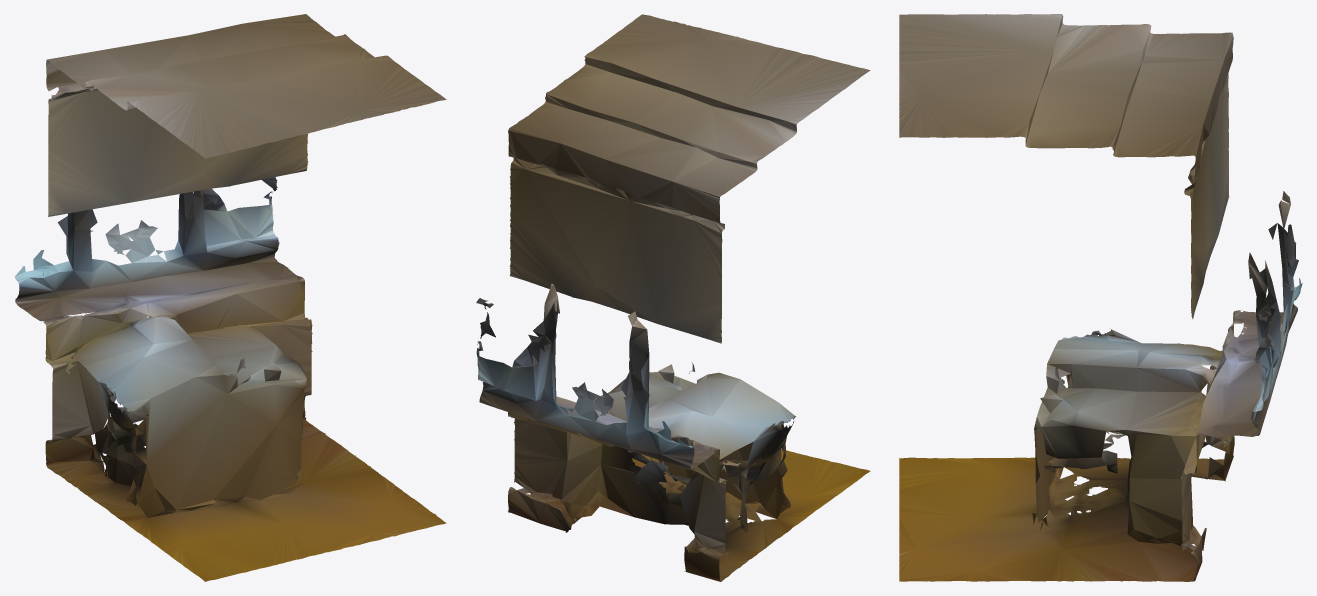
The model's file is coarse.glb.
3 renders of one model, left to right at view 1: azimuth 30°, elevation 25°; view 2: azimuth 150°, elevation 25°; view 3: azimuth 270°, elevation 25°, orthographic. The views are drawn at different scales.
Bounding box in the file's own units: 1.68 × 2.85 × 2.32.
